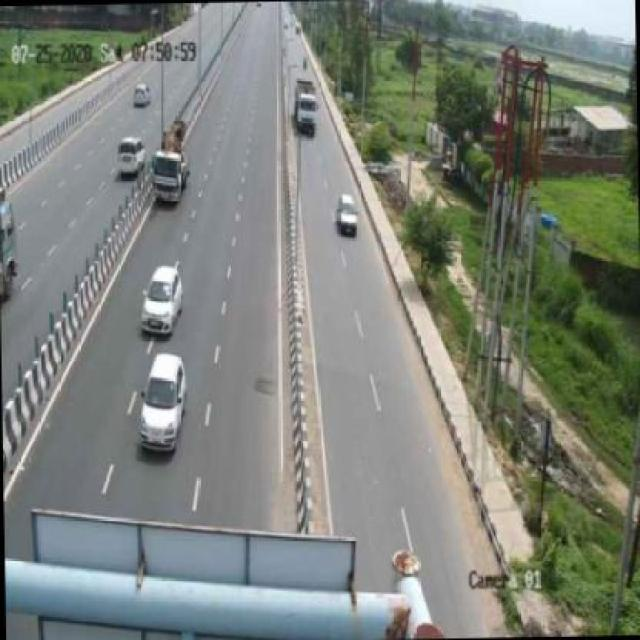car: (134, 351, 191, 455), (139, 264, 183, 336), (112, 130, 150, 182), (330, 188, 364, 240), (130, 78, 152, 111)
